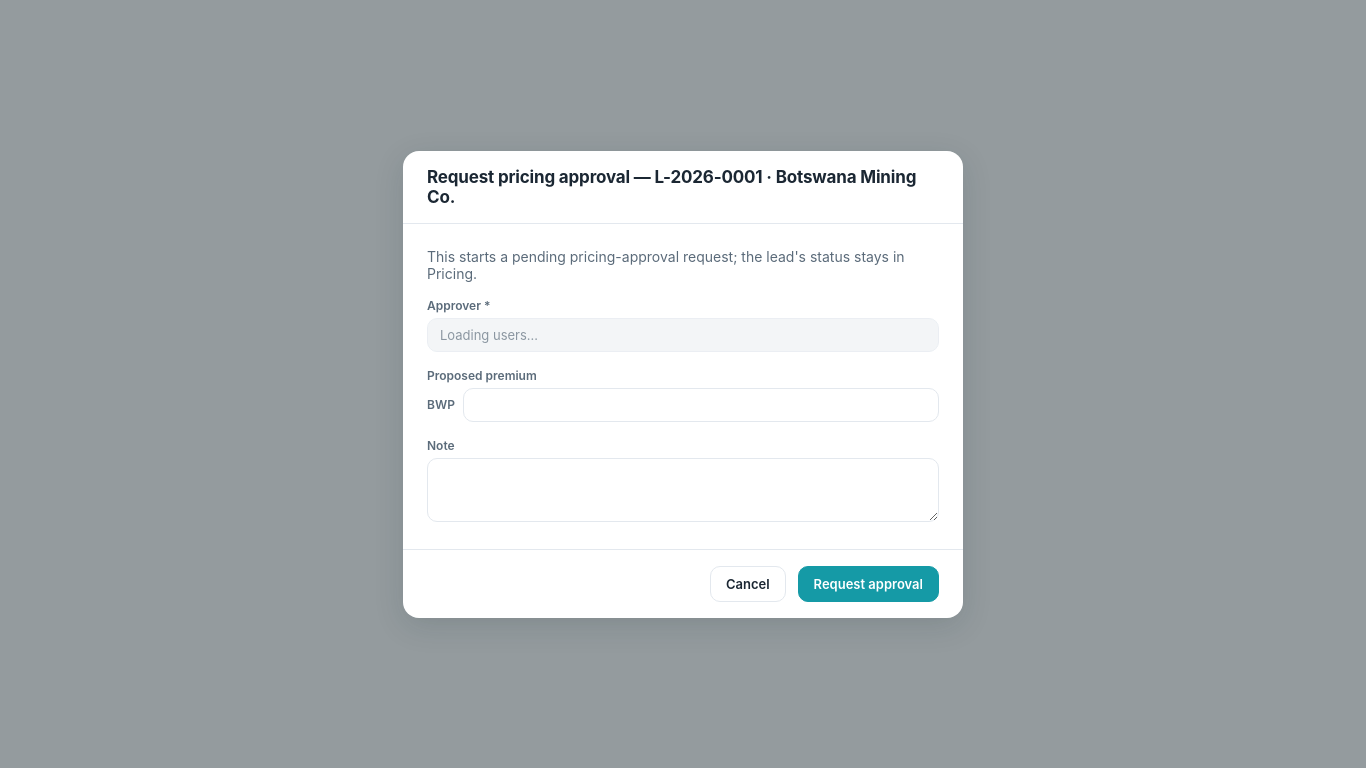
RequestPricingApprovalDialog › click_WhenConfirmedWithoutApprover_ShouldShowInlineErrorAndNotConfirm
The width and height of the screenshot is (1366, 768).
Click the button with test id "dialog-primary-button".
click(868, 584)  # box [798, 566, 939, 602]
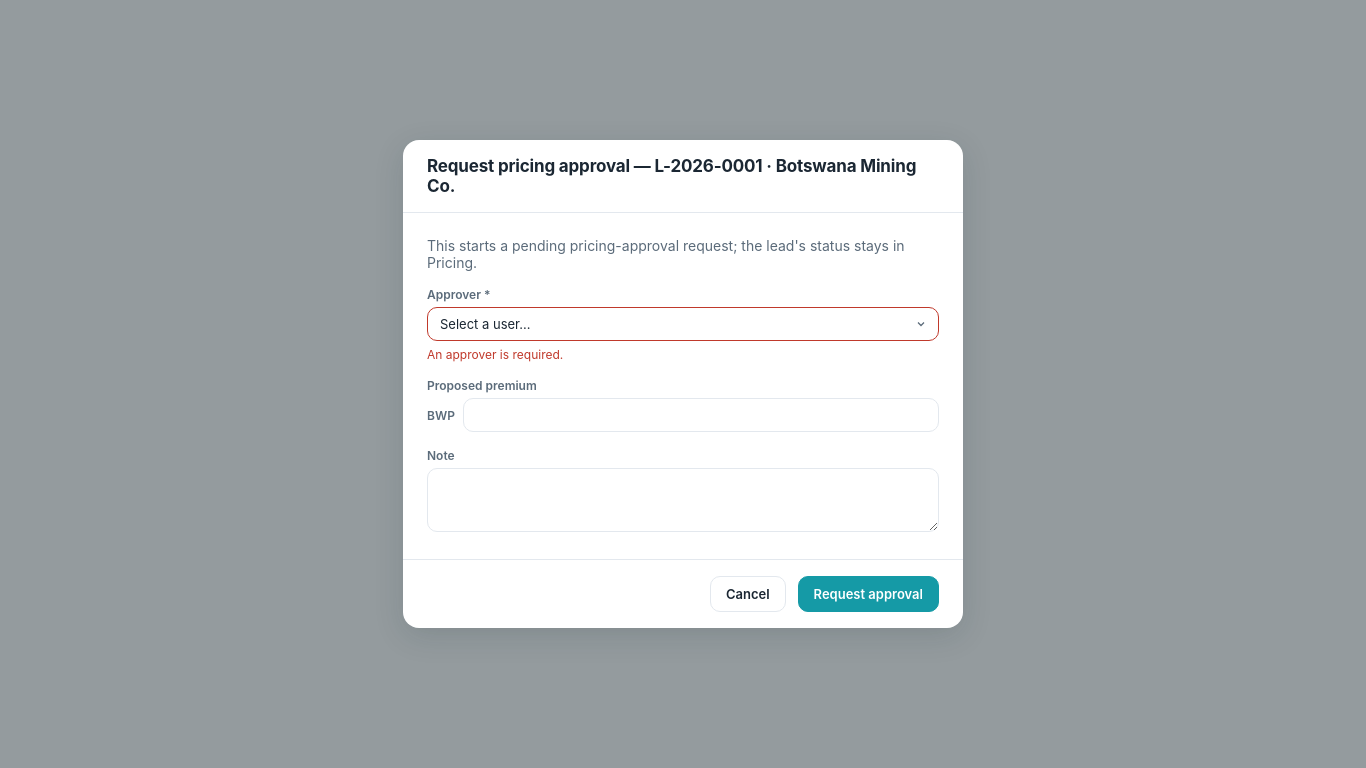
Check: the message with test id "field-error" reads "An approver is required.", box [427, 347, 563, 362]
